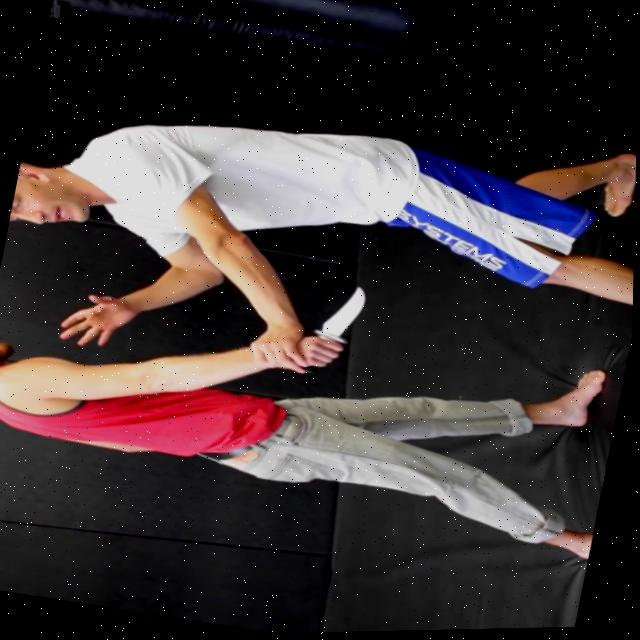knife: (313, 281, 383, 347)
